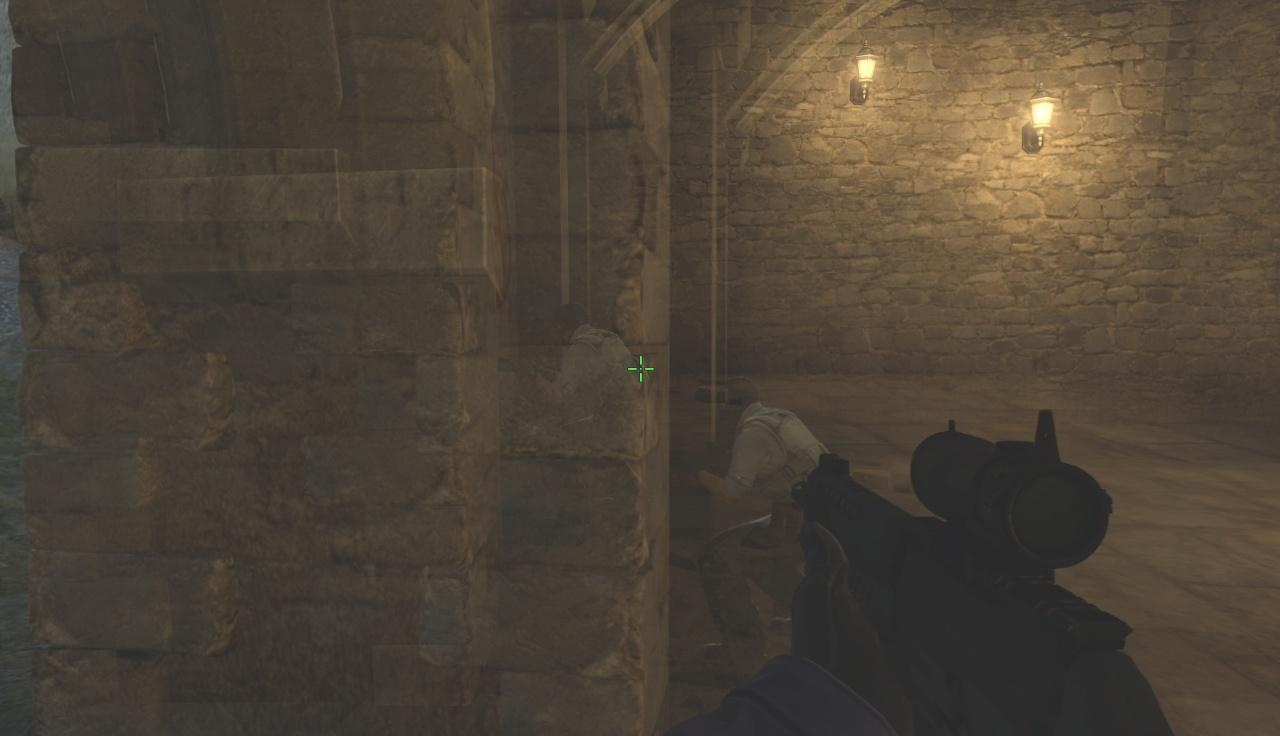rifle: (782, 411, 1175, 731)
